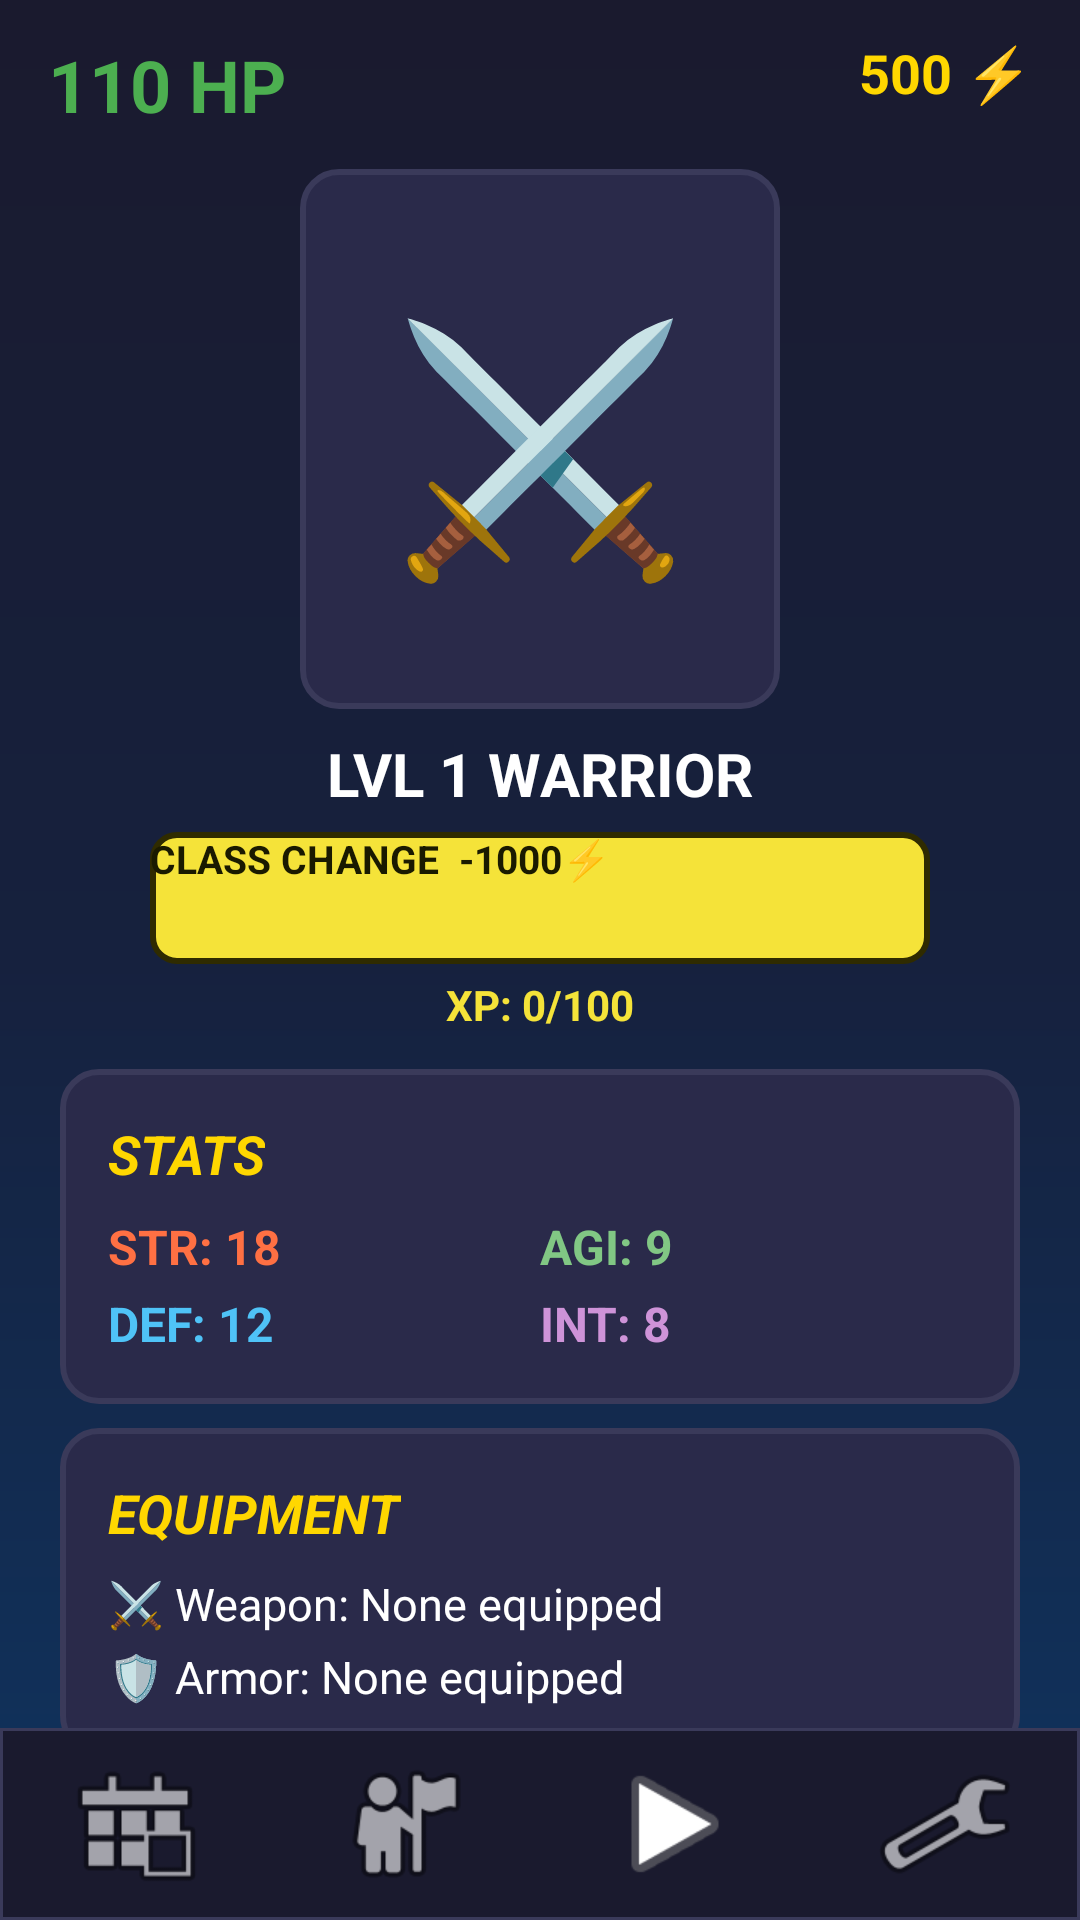

Where to tap for icons on this 1080 x 1920 app screen, as point (x, y):
Character: point (406, 1824)
Settings: point (945, 1824)
